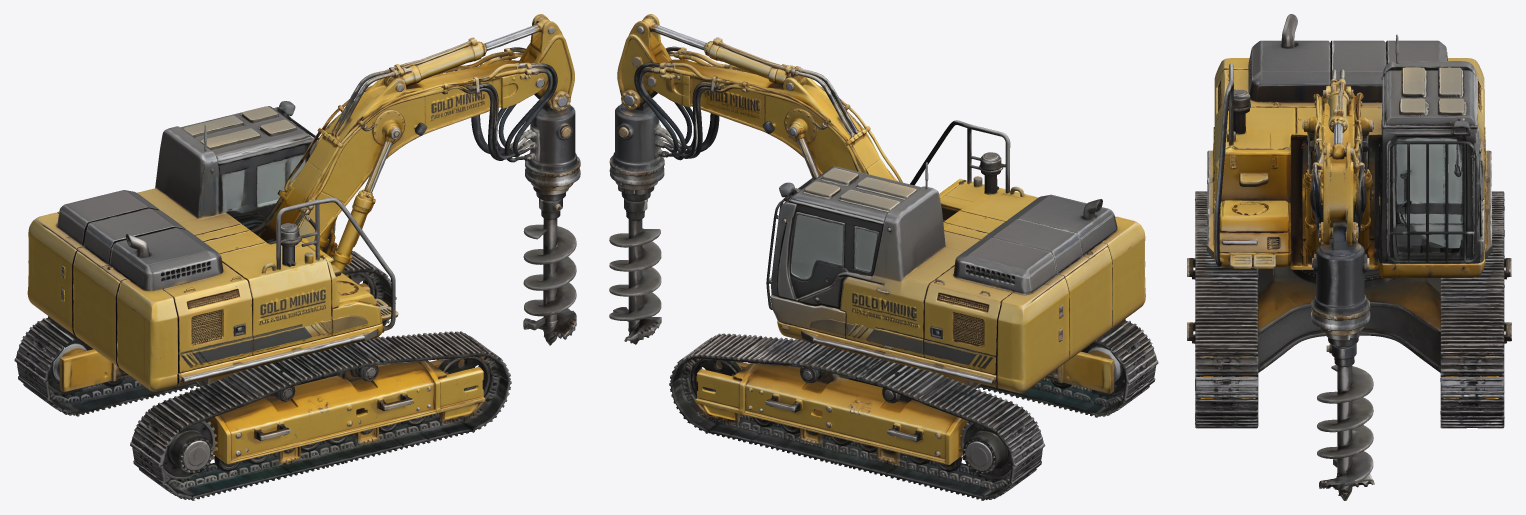
The model's file is plan-1.glb.
3 views of the same model, side by side, from view 1: azimuth 30°, elevation 25°; view 2: azimuth 150°, elevation 25°; view 3: azimuth 270°, elevation 25° (orthographic). The views are drawn at different scales.
Parts seen in each view (by area): view 1: tripo_part_0, tripo_part_1, tripo_part_3, tripo_part_12, tripo_part_22, tripo_part_38, tripo_part_36, tripo_part_30, tripo_part_31, tripo_part_46, tripo_part_7, tripo_part_14 (+28 smaller); view 2: tripo_part_1, tripo_part_22, tripo_part_5, tripo_part_3, tripo_part_0, tripo_part_31, tripo_part_17, tripo_part_27, tripo_part_46, tripo_part_7, tripo_part_8, tripo_part_12 (+23 smaller); view 3: tripo_part_1, tripo_part_0, tripo_part_22, tripo_part_2, tripo_part_25, tripo_part_30, tripo_part_7, tripo_part_14, tripo_part_4, tripo_part_12, tripo_part_24, tripo_part_64 (+27 smaller).
Part boxes in pixels (bbox=[...]): tripo_part_0: bbox=[130, 331, 511, 500]; tripo_part_1: bbox=[137, 101, 335, 253]; tripo_part_3: bbox=[259, 55, 520, 241]; tripo_part_12: bbox=[196, 225, 339, 358]; tripo_part_22: bbox=[14, 247, 396, 416]; tripo_part_38: bbox=[111, 272, 182, 391]; tripo_part_36: bbox=[163, 262, 252, 375]; tripo_part_30: bbox=[109, 227, 223, 291]; tripo_part_31: bbox=[27, 212, 83, 335]; tripo_part_46: bbox=[74, 246, 121, 367]; tripo_part_7: bbox=[523, 224, 576, 345]; tripo_part_14: bbox=[525, 104, 580, 176]; tripo_part_1: bbox=[766, 162, 981, 358]; tripo_part_22: bbox=[669, 333, 1045, 500]; tripo_part_5: bbox=[745, 364, 968, 464]; tripo_part_3: bbox=[661, 59, 894, 180]; tripo_part_0: bbox=[977, 319, 1158, 417]; tripo_part_31: bbox=[995, 274, 1069, 393]; tripo_part_17: bbox=[924, 266, 1013, 375]; tripo_part_27: bbox=[953, 237, 1058, 294]; tripo_part_46: bbox=[1058, 245, 1112, 360]; tripo_part_7: bbox=[609, 228, 661, 344]; tripo_part_8: bbox=[695, 361, 943, 463]; tripo_part_12: bbox=[940, 176, 1038, 239]; tripo_part_1: bbox=[1360, 34, 1486, 263]; tripo_part_0: bbox=[1195, 191, 1258, 428]; tripo_part_22: bbox=[1440, 191, 1504, 428]; tripo_part_2: bbox=[1256, 265, 1442, 372]; tripo_part_25: bbox=[1214, 137, 1381, 253]; tripo_part_30: bbox=[1248, 40, 1330, 105]; tripo_part_7: bbox=[1317, 365, 1374, 500]; tripo_part_14: bbox=[1311, 239, 1370, 319]; tripo_part_4: bbox=[1291, 140, 1379, 269]; tripo_part_12: bbox=[1213, 104, 1315, 210]; tripo_part_24: bbox=[1318, 142, 1358, 245]; tripo_part_64: bbox=[1329, 40, 1385, 102].
Size of the model in its own units: 0.9792 by 0.639 by 0.5319.
Materials: 118 (118 with a texture image).
